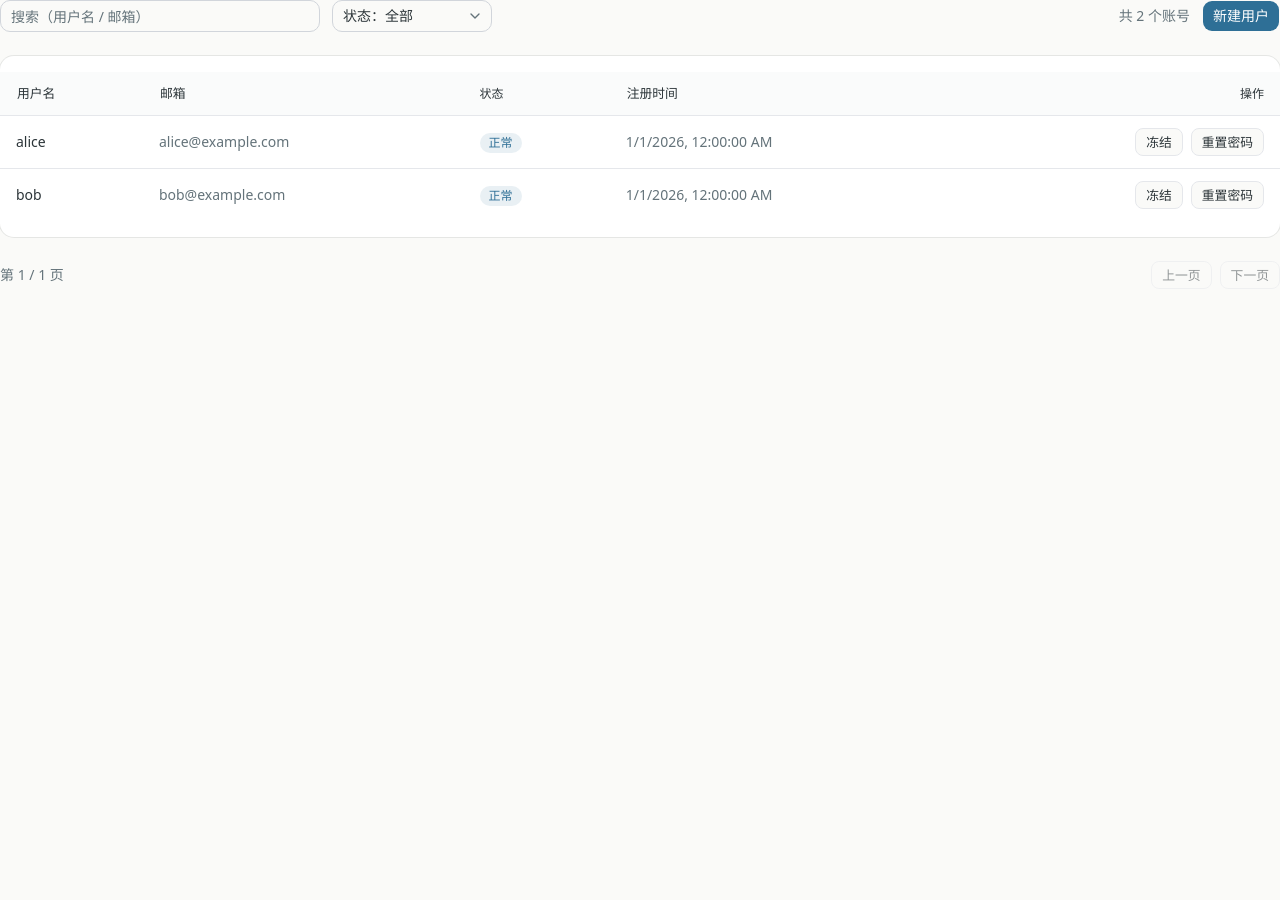
UsersPage sessions panel › renders valid sessions from the read-only view
What coordinates should you click on to do the following:
click the text "alice"
I would click on:
 (31, 142)
Its box is [0, 116, 143, 168].
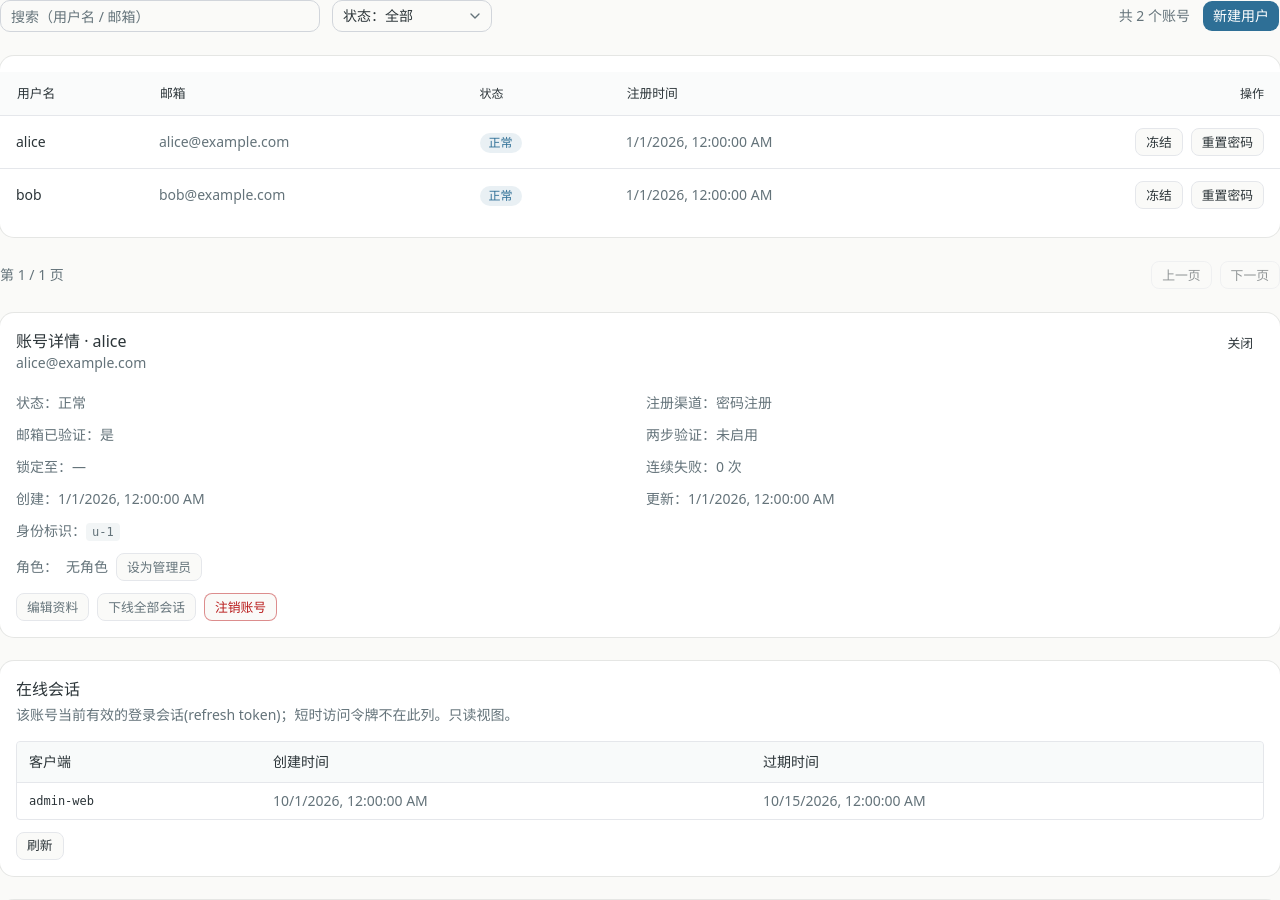
Result: the text "在线会话" is shown at [16, 678, 80, 700]
Result: the text "admin-web" is shown at [17, 782, 261, 818]
